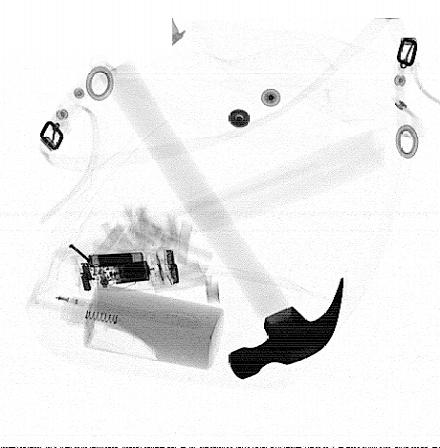Hammer: (99, 60, 344, 380)
